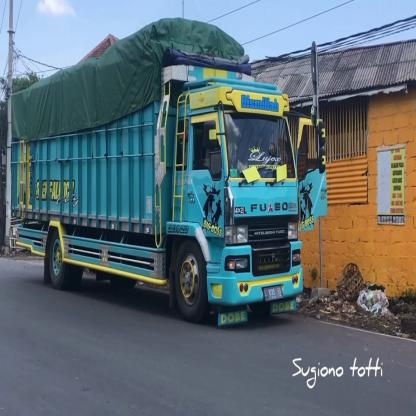truck: (9, 61, 328, 332)
